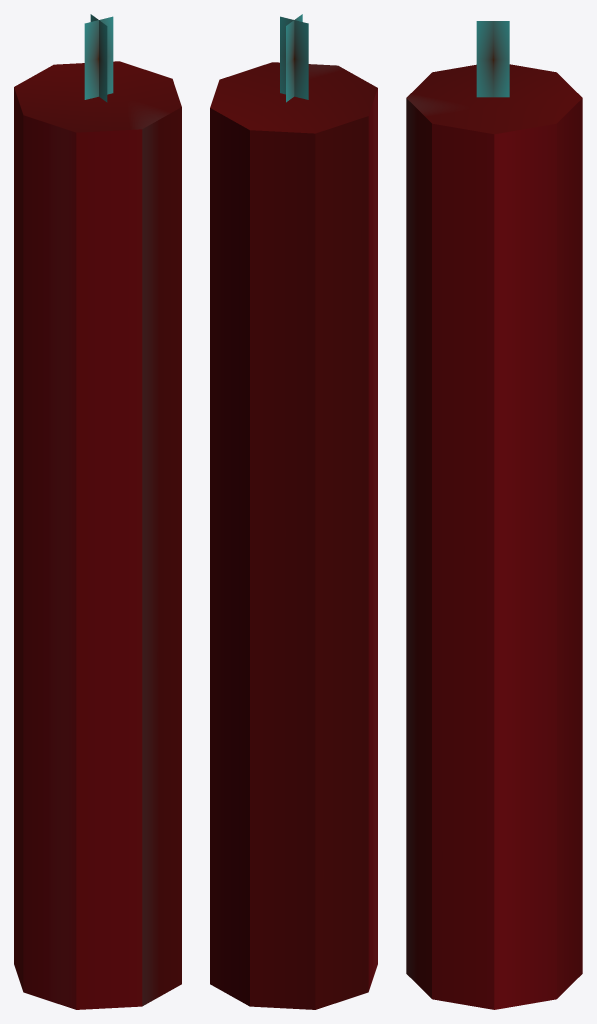
File: candle_336x07.obj
3 views of the same model, side by side, from view 1: azimuth 30°, elevation 25°; view 2: azimuth 150°, elevation 25°; view 3: azimuth 270°, elevation 25° (orthographic).
Visible parts, largest first — view 1: Candle_336x7; view 2: Candle_336x7; view 3: Candle_336x7.
Boxes of the visible parts, x1,y1,x2,y2 form: Candle_336x7: [14, 14, 181, 1009]; Candle_336x7: [210, 14, 377, 1009]; Candle_336x7: [406, 21, 582, 1009].
Bounding box in the file's own units: 0.1466 × 0.8965 × 0.1504.
